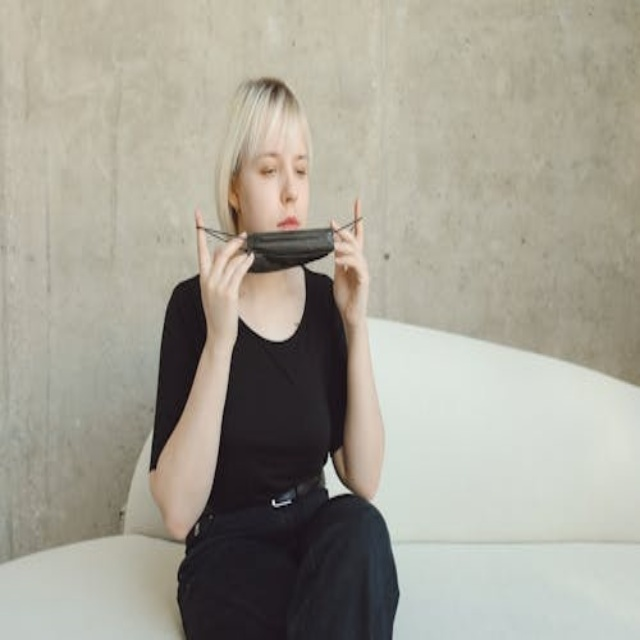Sin_gafas: (252, 152, 315, 181)
Sin_guantes: (188, 209, 255, 325), (324, 194, 378, 325)
Sin_mascara: (265, 211, 306, 233)
